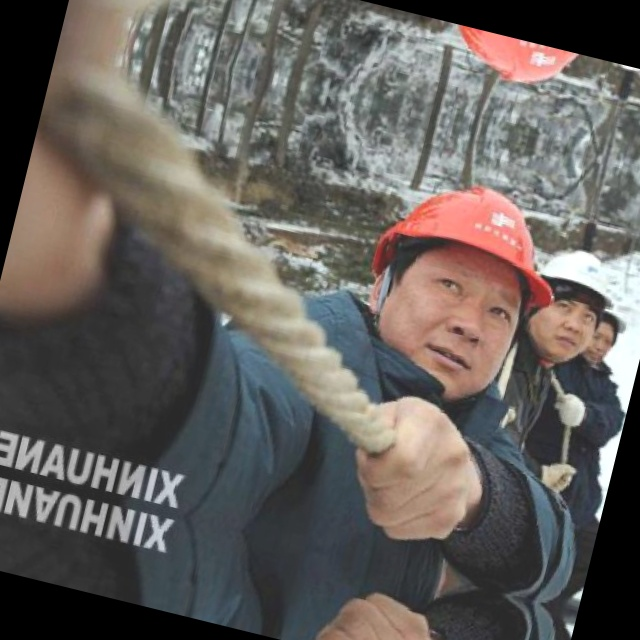helmet: (95, 132, 297, 360), (25, 176, 120, 310), (94, 0, 297, 57), (11, 224, 63, 296)
person: (108, 151, 550, 532), (108, 548, 552, 637), (42, 181, 144, 517), (6, 232, 82, 536), (40, 563, 145, 637), (4, 545, 82, 637)
